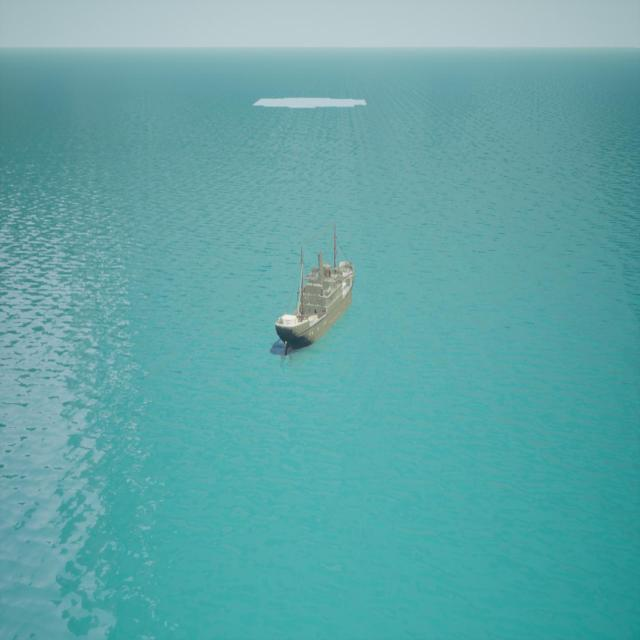fishing ship: (276, 226, 354, 357)
